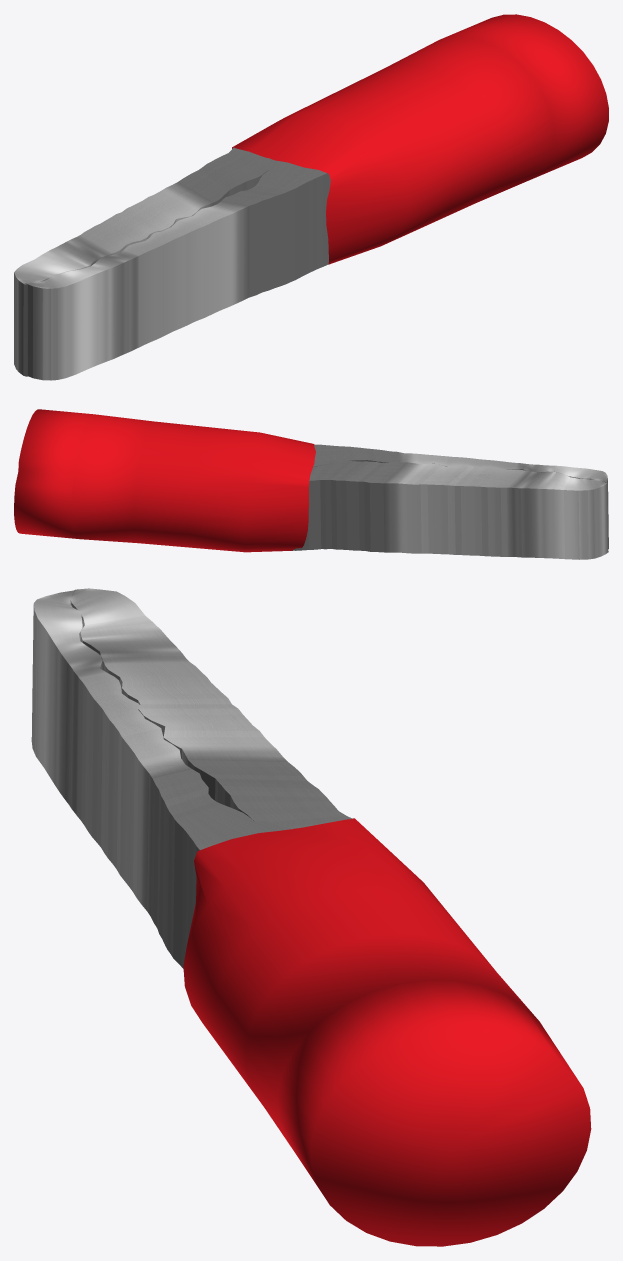
File: Pinzas_cocodrilo_R_lab3.fbx
The picture shows the model from 3 angles, top to bottom: view 1: azimuth 30°, elevation 25°; view 2: azimuth 150°, elevation 25°; view 3: azimuth 270°, elevation 25°; orthographic projection. The views are drawn at different scales.
Visible parts, largest first — view 1: Circle, Plane.001, Plane.002; view 2: Circle, Plane.002, Plane.001; view 3: Circle, Plane.001, Plane.002.
Part boxes in pixels (left/top/right/bottom): Circle: left=232, top=14, right=608, bottom=264; Plane.001: left=25, top=158, right=330, bottom=380; Plane.002: left=14, top=147, right=270, bottom=376; Circle: left=14, top=409, right=315, bottom=552; Plane.002: left=292, top=461, right=608, bottom=559; Plane.001: left=313, top=444, right=608, bottom=548; Circle: left=183, top=818, right=591, bottom=1246; Plane.001: left=31, top=590, right=292, bottom=968; Plane.002: left=70, top=588, right=352, bottom=828.
Size of the model in its own units: 495 by 100 by 237.
